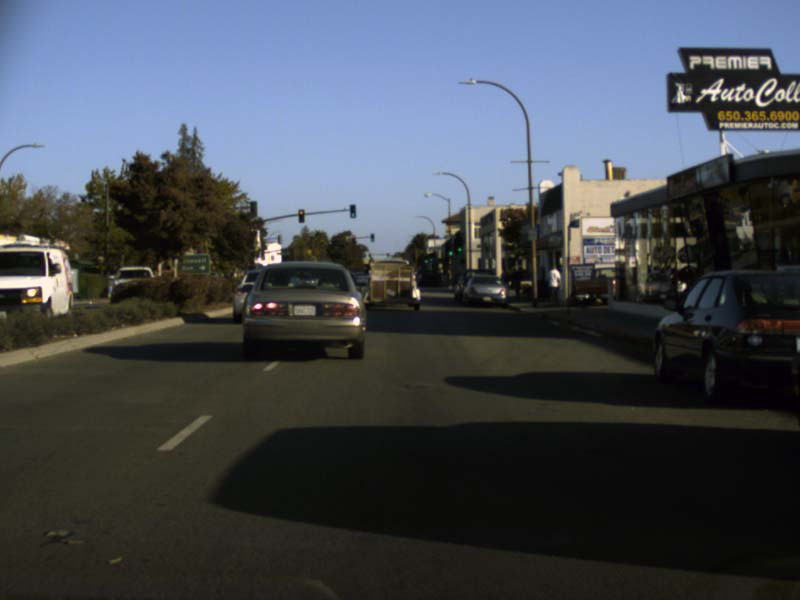Green: (455, 236, 462, 254), (447, 243, 452, 257), (350, 204, 355, 217), (423, 257, 429, 264), (429, 253, 433, 261), (370, 233, 373, 241)
Red: (298, 209, 303, 221), (351, 235, 355, 242)
